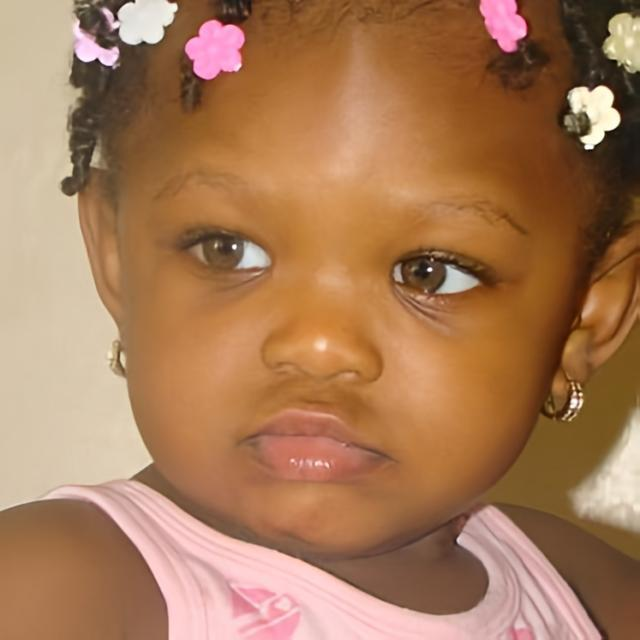neutral: (117, 1, 600, 550)
